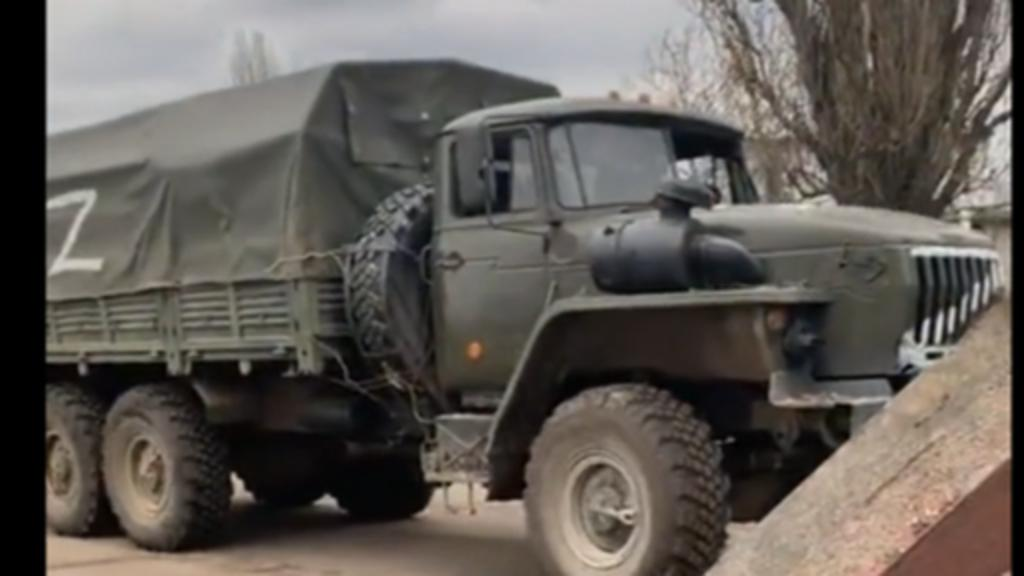TRUCK: (50, 50, 1006, 572)
